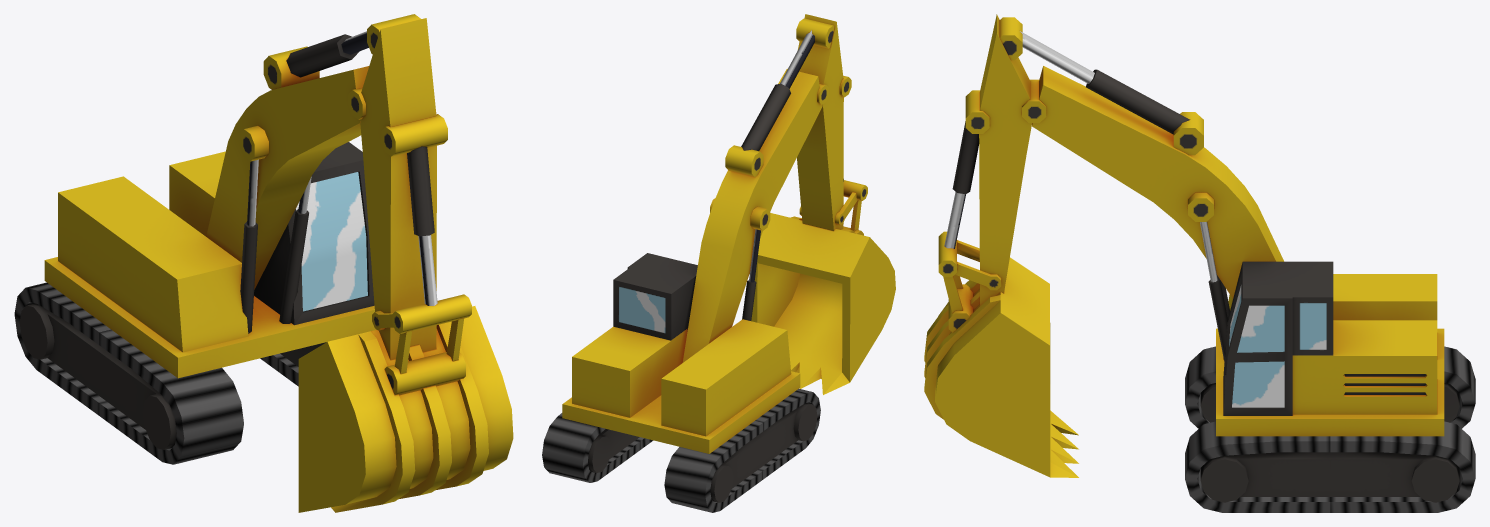
File: excavator.fbx
The picture shows the model from 3 angles, left to right: view 1: azimuth 30°, elevation 25°; view 2: azimuth 150°, elevation 25°; view 3: azimuth 270°, elevation 25°; orthographic projection. The views are drawn at different scales.
Parts seen in each view (by area): view 1: Cube.005; view 2: Cube.005; view 3: Cube.005.
Boxes of the visible parts, x1,y1,x2,y2 form: Cube.005: [14, 14, 513, 512]; Cube.005: [542, 14, 895, 512]; Cube.005: [924, 14, 1475, 512].
Bounding box in the file's own units: 169 × 332 × 381.
